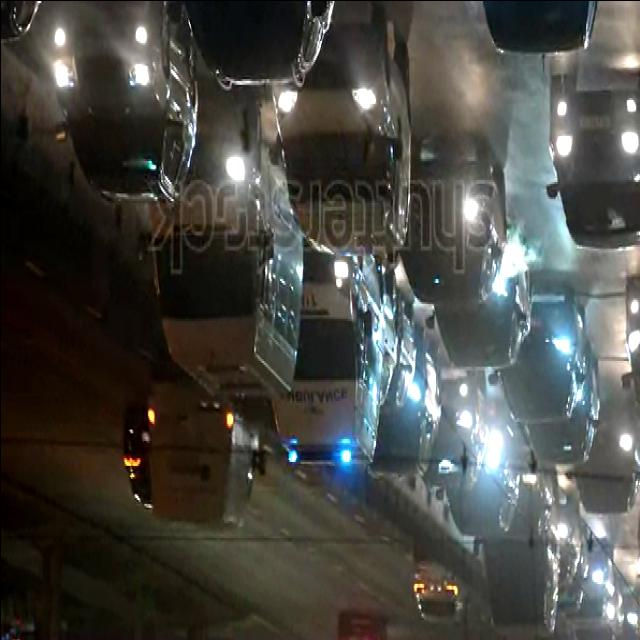ambulance: (266, 228, 384, 464)
